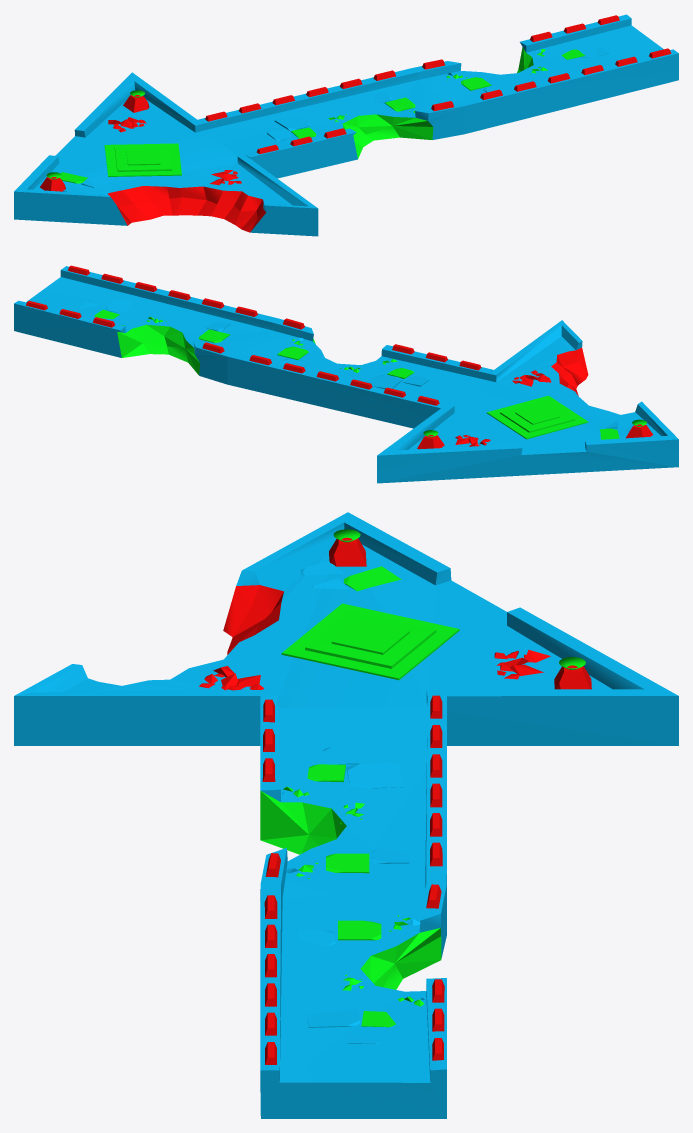
Rendered from level01_floor08.FBX.
3 views of the same model, one above another, from view 1: azimuth 30°, elevation 25°; view 2: azimuth 150°, elevation 25°; view 3: azimuth 270°, elevation 25° (orthographic). The views are drawn at different scales.
Parts seen in each view (by area): view 1: floor08_floor01; view 2: floor08_floor01; view 3: floor08_floor01.
Part boxes in pixels (bbox=[...]): floor08_floor01: bbox=[14, 14, 678, 236]; floor08_floor01: bbox=[14, 265, 678, 483]; floor08_floor01: bbox=[14, 512, 678, 1118].
Bounding box in the file's own units: 973 × 52.01 × 490.
